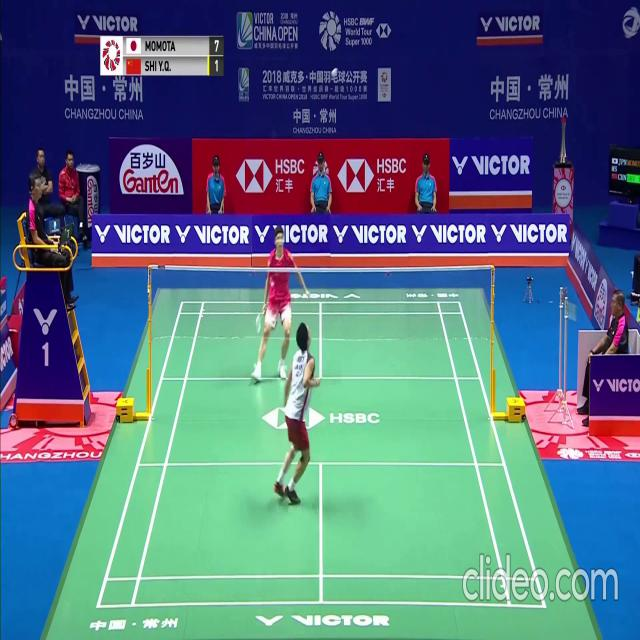Shuttlecock: (333, 67, 338, 74)
